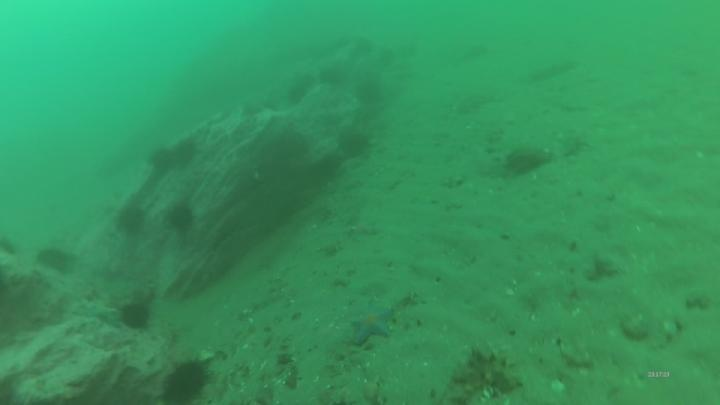echinus: (160, 353, 216, 405), (117, 298, 162, 337), (336, 122, 370, 162), (161, 204, 201, 236), (508, 145, 548, 175), (118, 203, 148, 238), (39, 246, 72, 276), (173, 138, 200, 167), (149, 146, 175, 174)
holothurian: (450, 348, 523, 397)
starfish: (347, 304, 396, 346)
